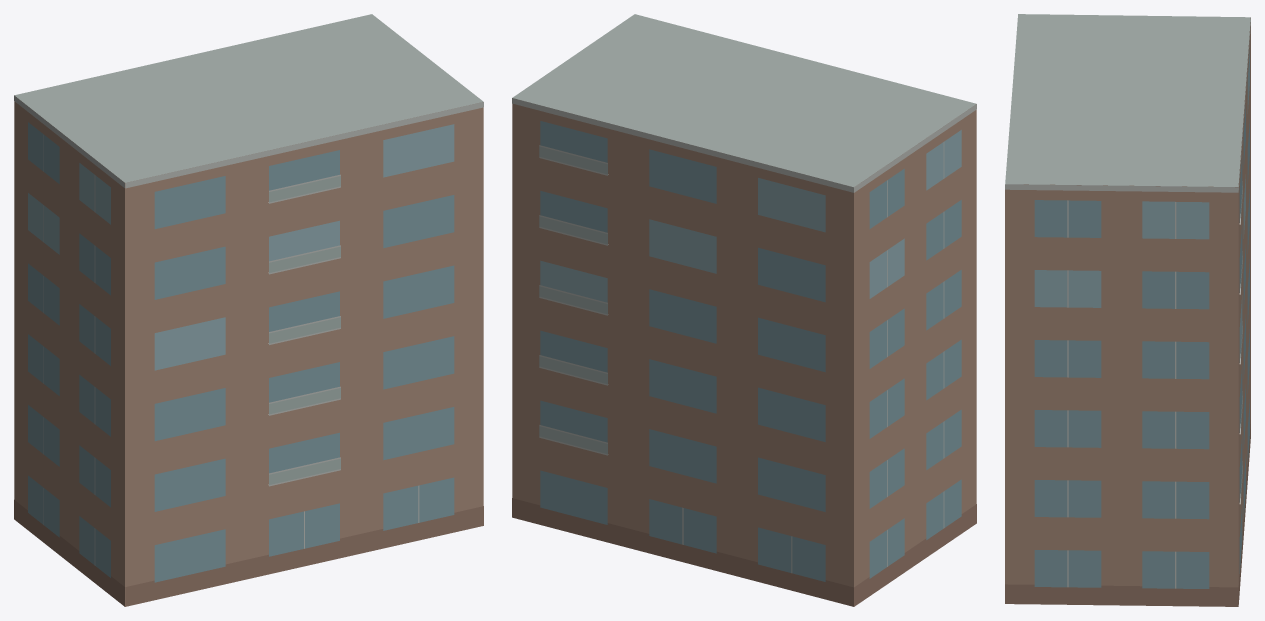
The model's file is survey-upis-32654047.glb.
3 renders of one model, left to right at view 1: azimuth 30°, elevation 25°; view 2: azimuth 150°, elevation 25°; view 3: azimuth 270°, elevation 25°, orthographic.
Parts seen in each view (by area): view 1: survey-upis-32654047.tmp; view 2: survey-upis-32654047.tmp; view 3: survey-upis-32654047.tmp.
Boxes of the visible parts, x1,y1,x2,y2 form: survey-upis-32654047.tmp: [14, 14, 483, 606]; survey-upis-32654047.tmp: [512, 14, 976, 606]; survey-upis-32654047.tmp: [1005, 14, 1250, 606].
Size of the model in its own units: 16.19 by 18.3 by 9.72.
